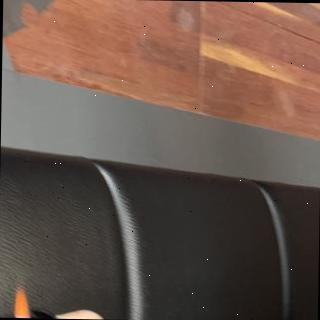fire: (10, 282, 33, 318)
